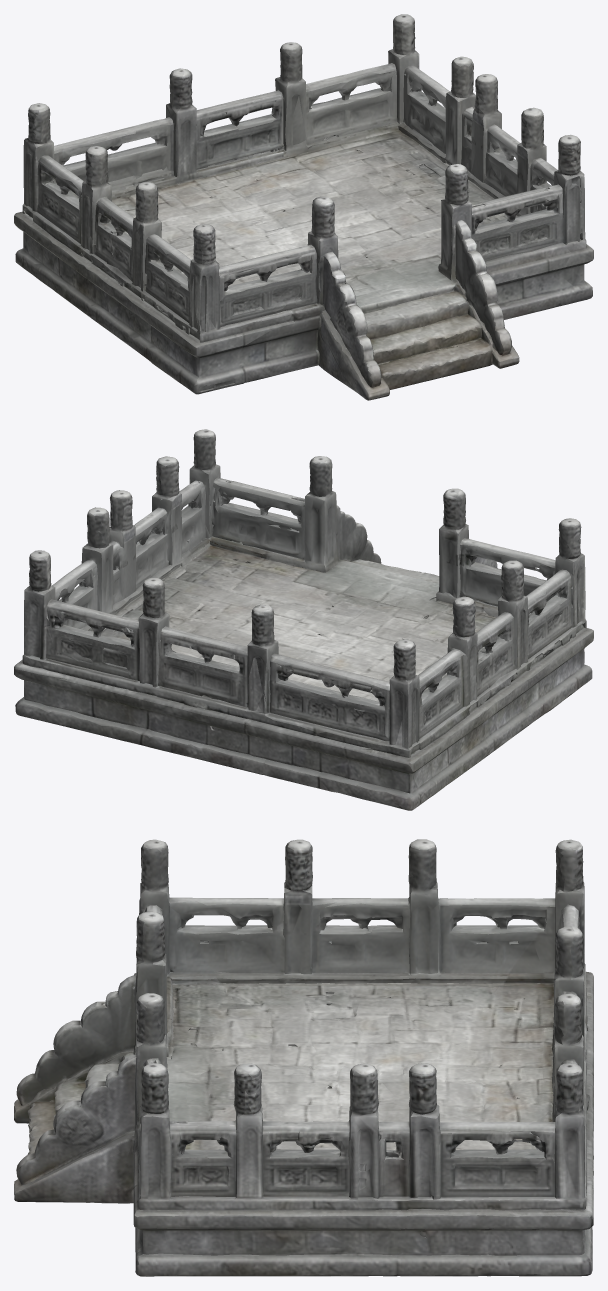
The model's file is stone-terrace.glb.
3 renders of one model, top to bottom at view 1: azimuth 30°, elevation 25°; view 2: azimuth 150°, elevation 25°; view 3: azimuth 270°, elevation 25°, orthographic. The views are drawn at different scales.
Parts seen in each view (by area): view 1: geometry_0; view 2: geometry_0; view 3: geometry_0.
Boxes of the visible parts, box(x1,y1,x2,y2) form: geometry_0: box(14, 14, 593, 400); geometry_0: box(14, 429, 593, 810); geometry_0: box(14, 839, 593, 1276).
Size of the model in its own units: 0.45 by 0.1745 by 0.4499.
Materials: 1 (1 with a texture image).
